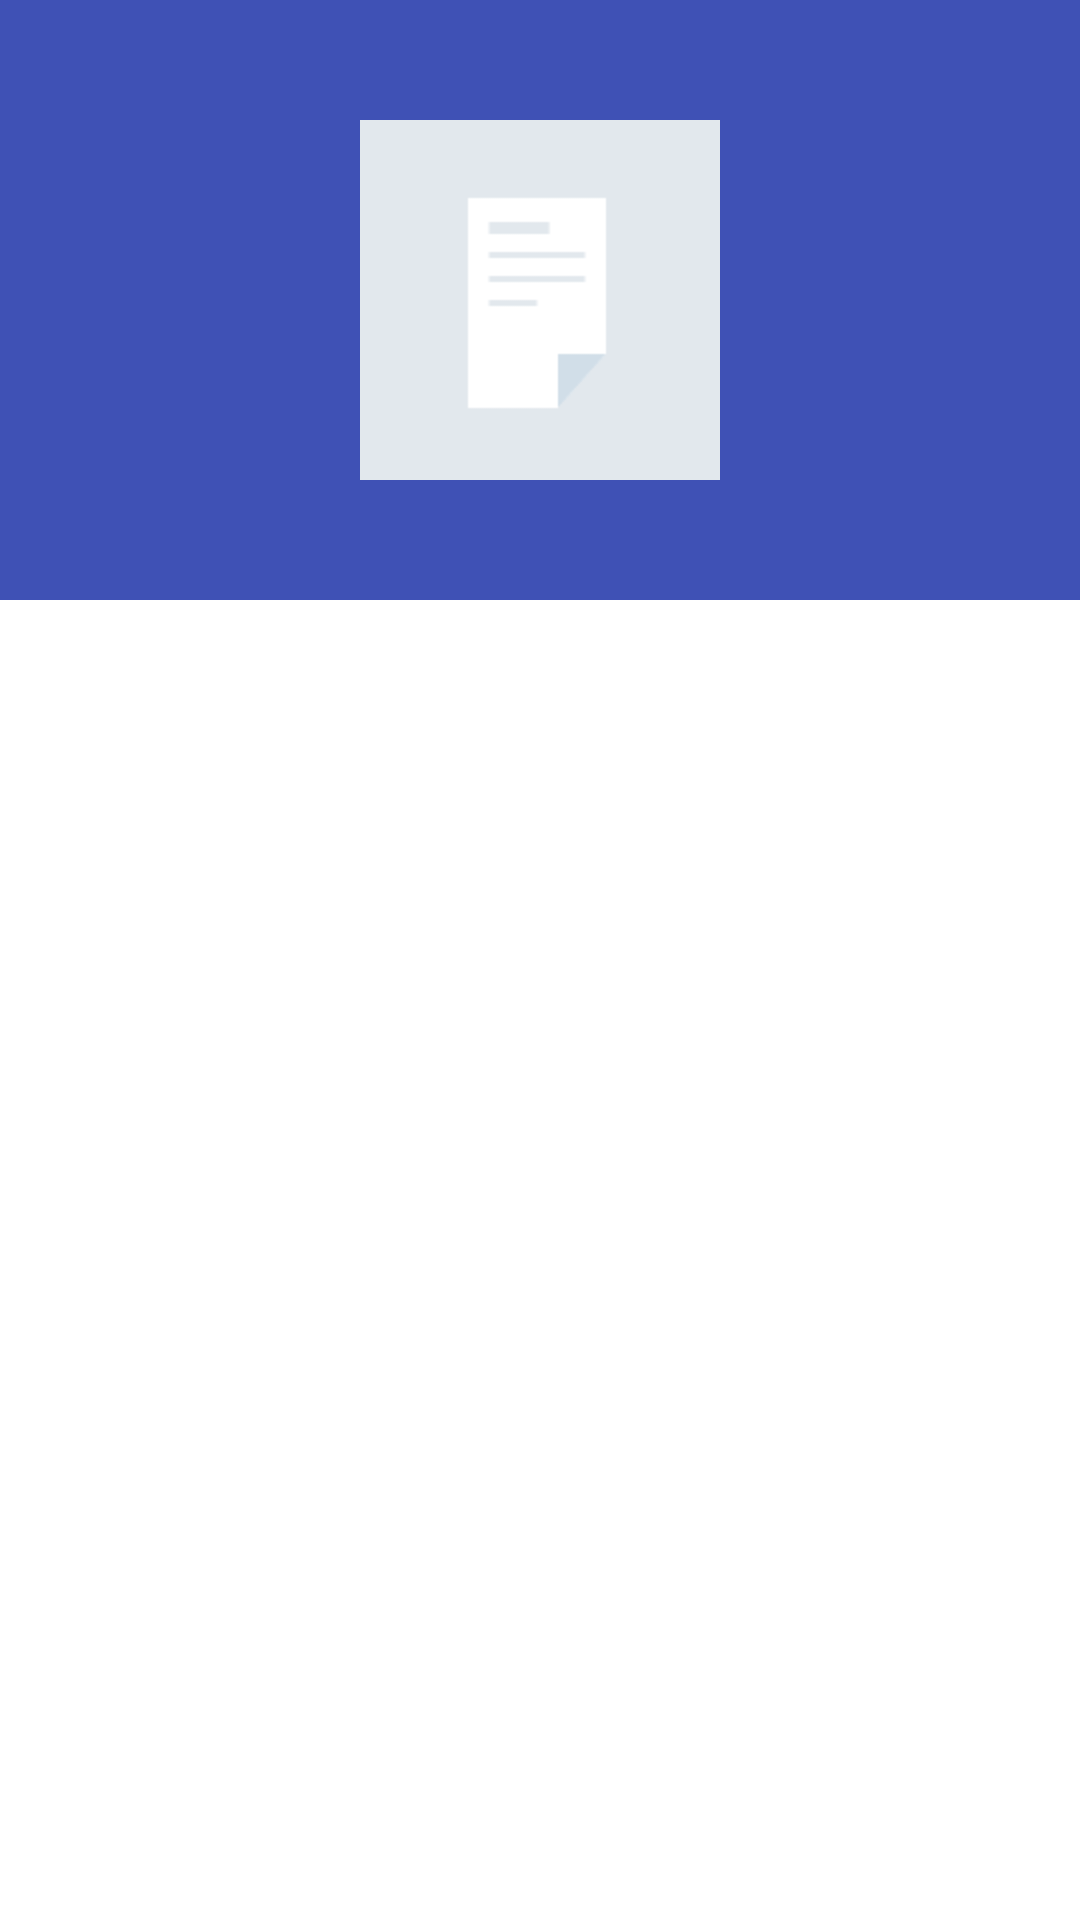

Where to tap for icons on this 1080px×1920px app screen, as [x,y]:
entry: [540,300]
